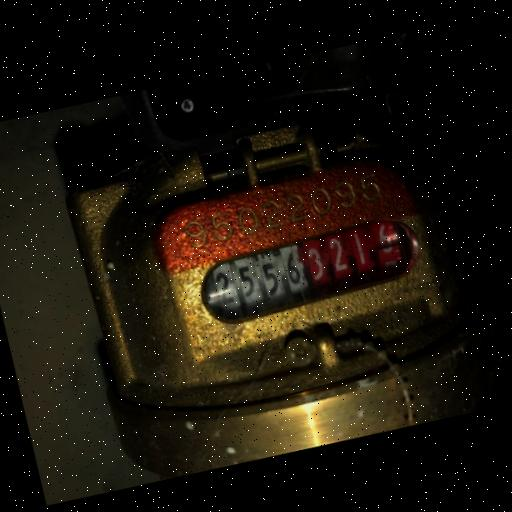1: (344, 224, 380, 287)
2: (318, 230, 360, 295), (207, 260, 246, 324)
3: (296, 235, 337, 301)
5: (254, 247, 291, 312), (232, 255, 269, 319)
6: (275, 241, 316, 307), (366, 216, 406, 281)
border_water_meter_number: (189, 202, 430, 337)
